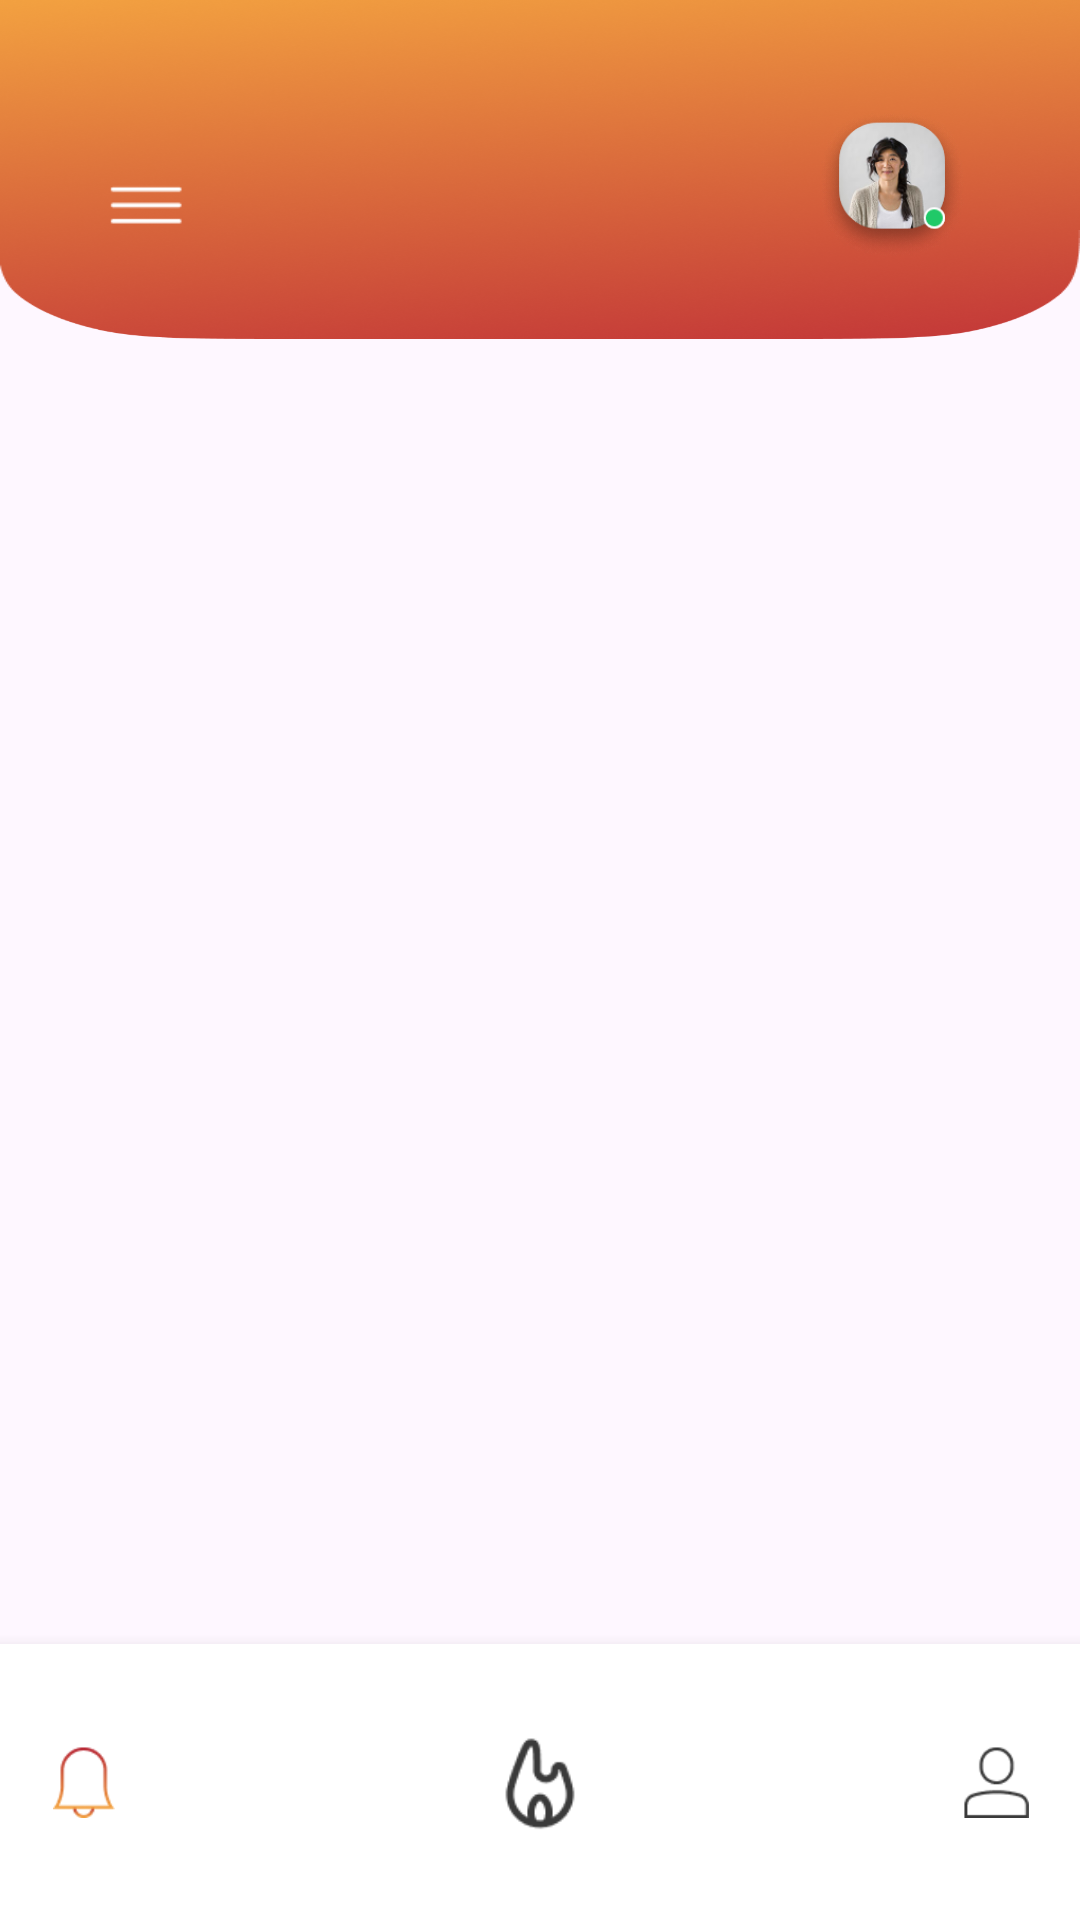

Where to tap for icons on this 1080x1920 app screen, as [x,y]:
fire: [540,1783]
menu: [146,205]
notification: [84,1782]
profile: [891,183], [996,1782]
